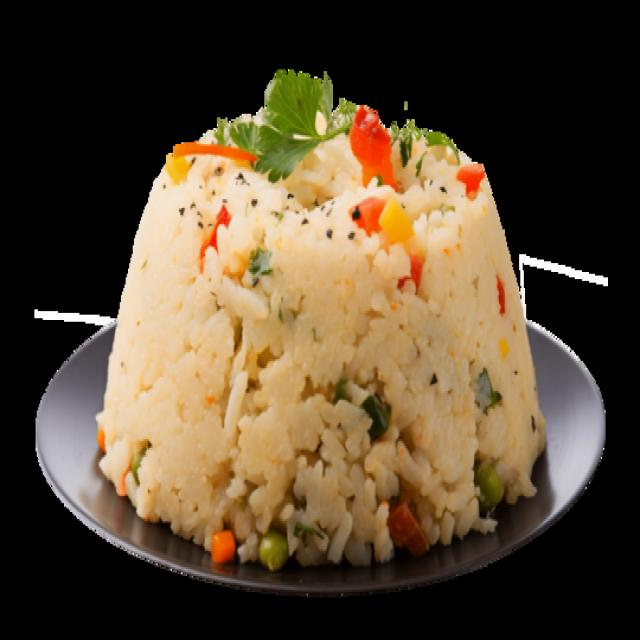UPMA: (96, 126, 544, 567)
